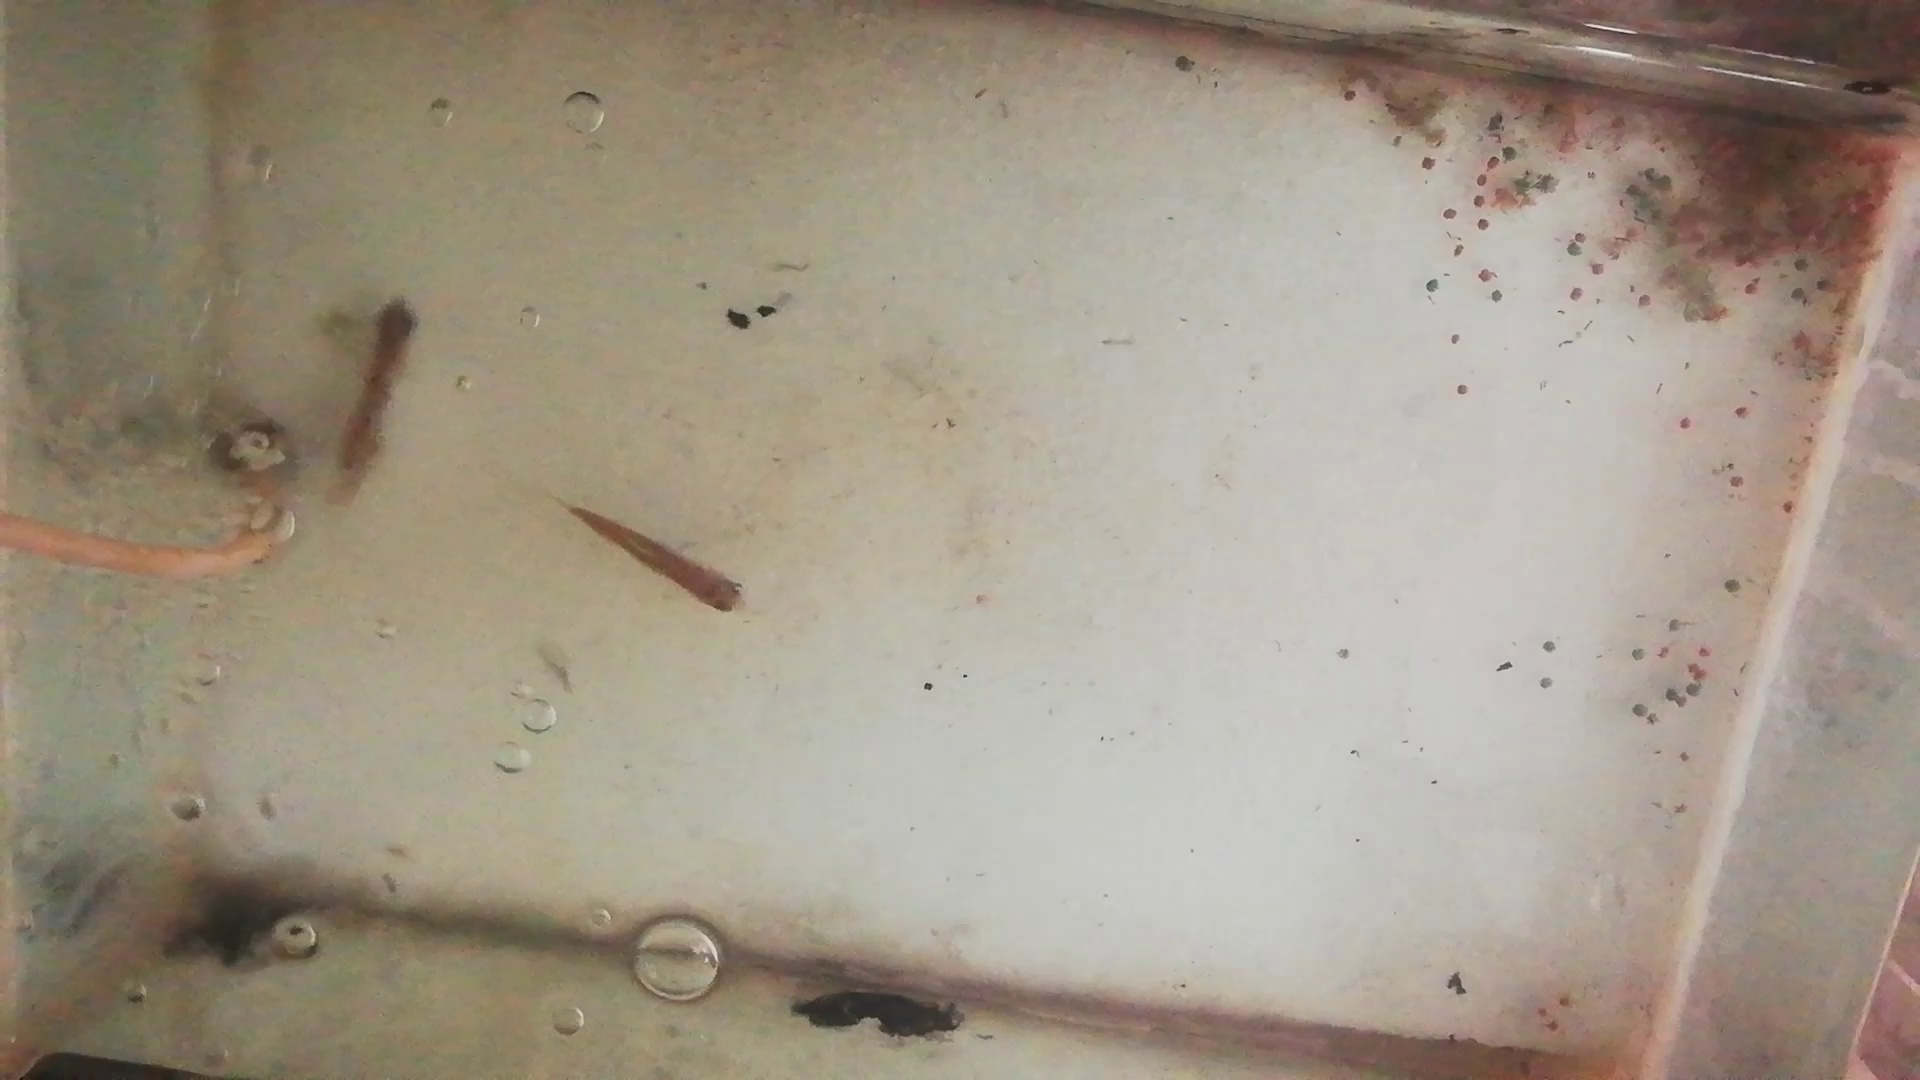fish: (564, 500, 752, 618), (332, 299, 415, 506)
